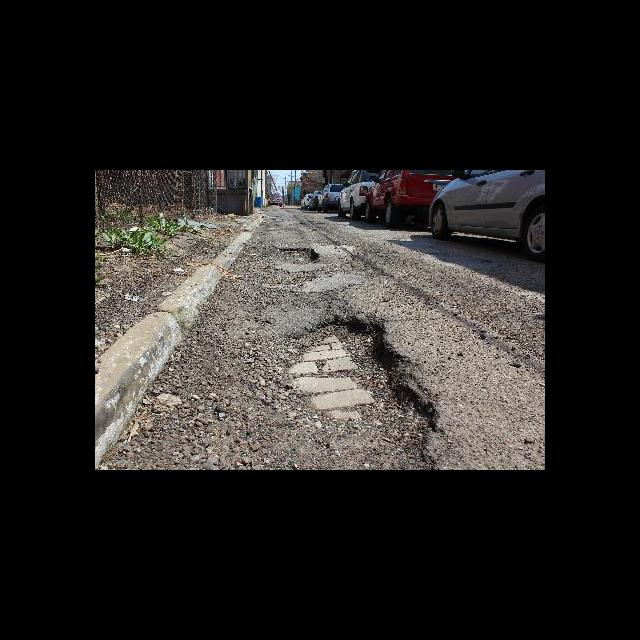lubang_kecil: (269, 312, 447, 462), (264, 239, 326, 275)
